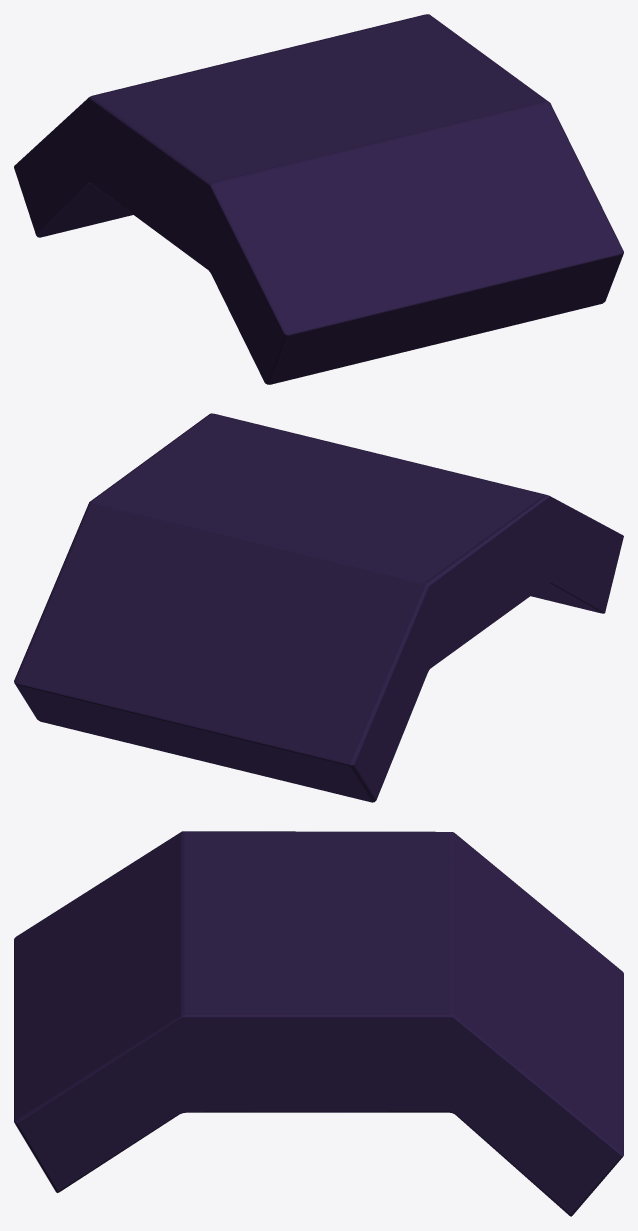
Rendered from Back.fbx.
3 renders of one model, top to bottom at view 1: azimuth 30°, elevation 25°; view 2: azimuth 150°, elevation 25°; view 3: azimuth 270°, elevation 25°, orthographic. The views are drawn at different scales.
Visible parts, largest first — view 1: Cube.051; view 2: Cube.051; view 3: Cube.051.
Boxes of the visible parts, x1=… form: Cube.051: x1=14, y1=14, x2=623, y2=384; Cube.051: x1=14, y1=413, x2=623, y2=802; Cube.051: x1=14, y1=831, x2=623, y2=1216.
Bounding box in the file's own units: 171 × 86.76 × 237.
